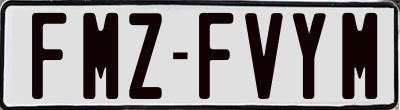F: (197, 12, 237, 100), (32, 13, 67, 103)
M: (82, 10, 119, 98), (340, 12, 375, 102)
V: (243, 10, 285, 102)
Y: (293, 13, 332, 105)
Z: (129, 13, 164, 104)
